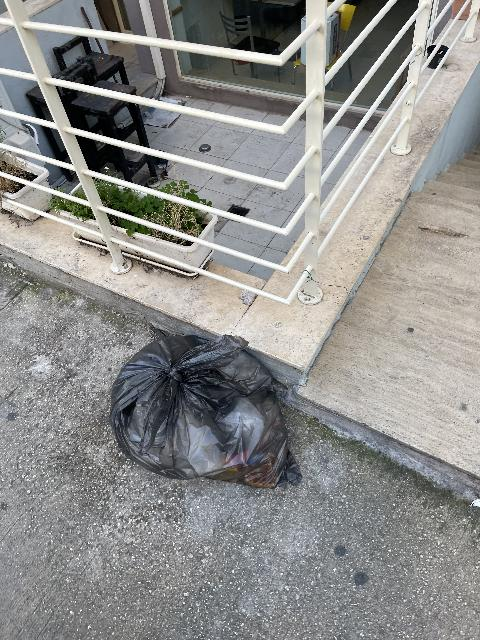Recyclable -Grey-: (110, 335, 301, 488)
